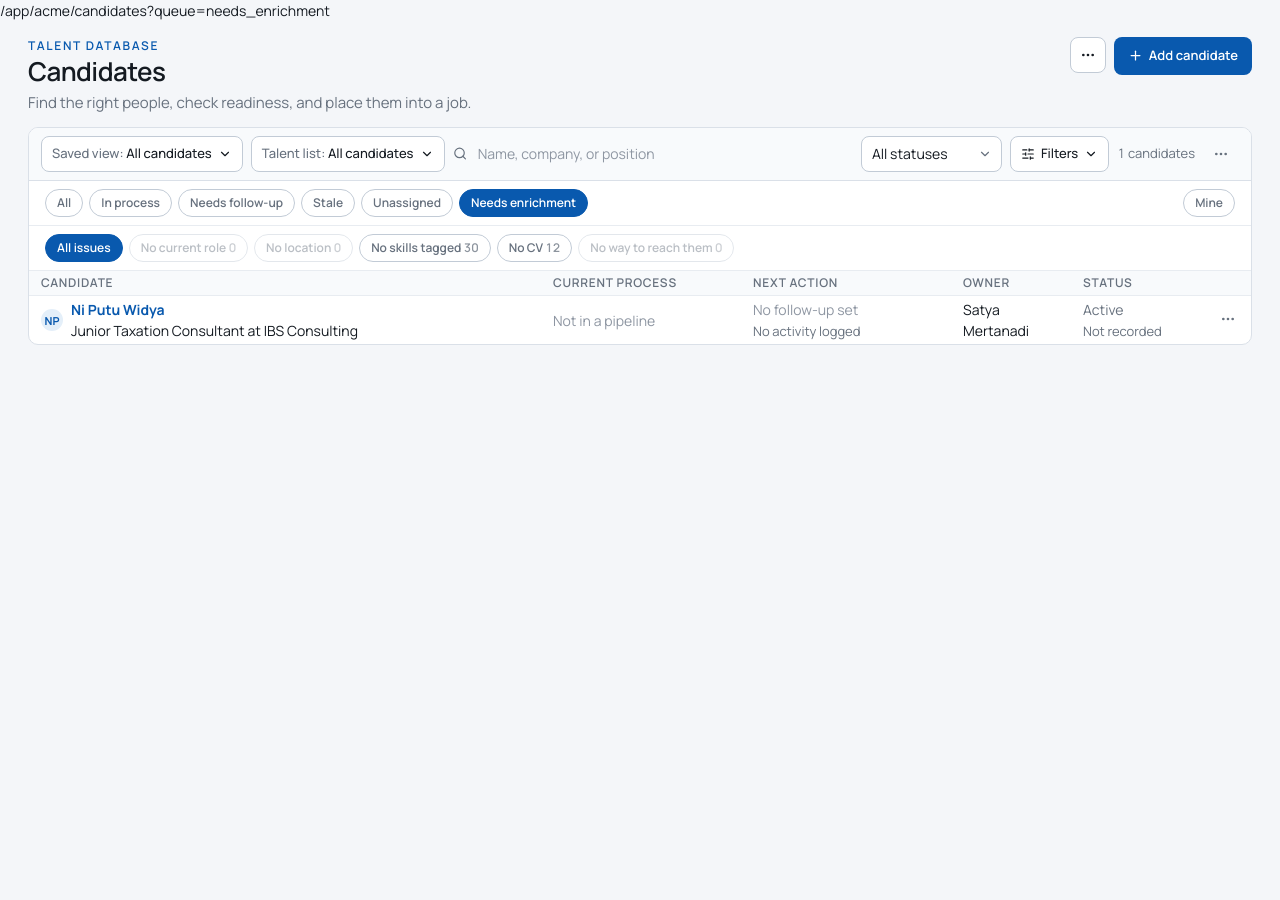
Test case: CandidatesPage data quality › states a missing contact method without ever rendering contact data
Click the cell "Not in a pipeline" at (641, 320), box [541,296,741,344]
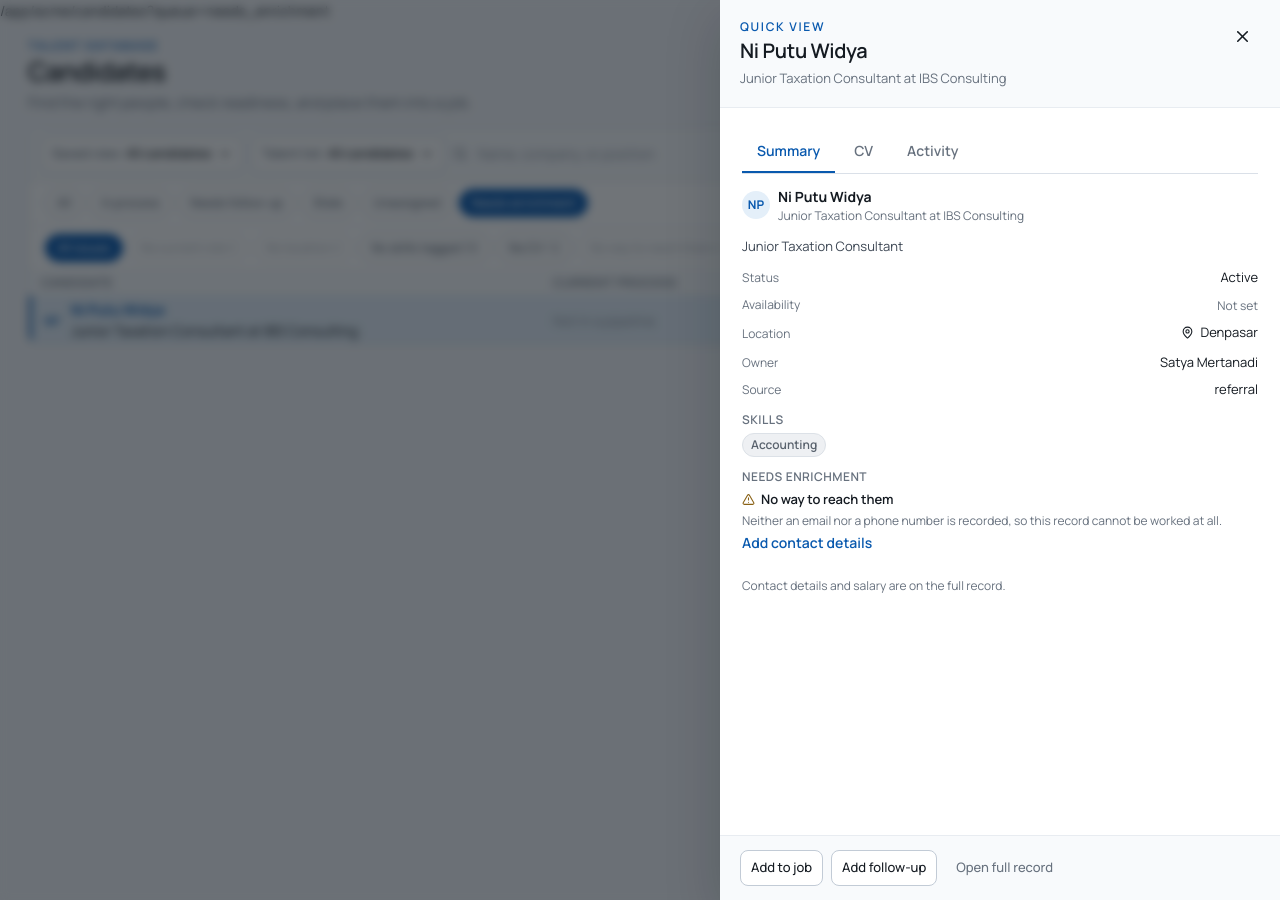
Now the dialog shows "No way to reach them", box [761,490,894,508]
